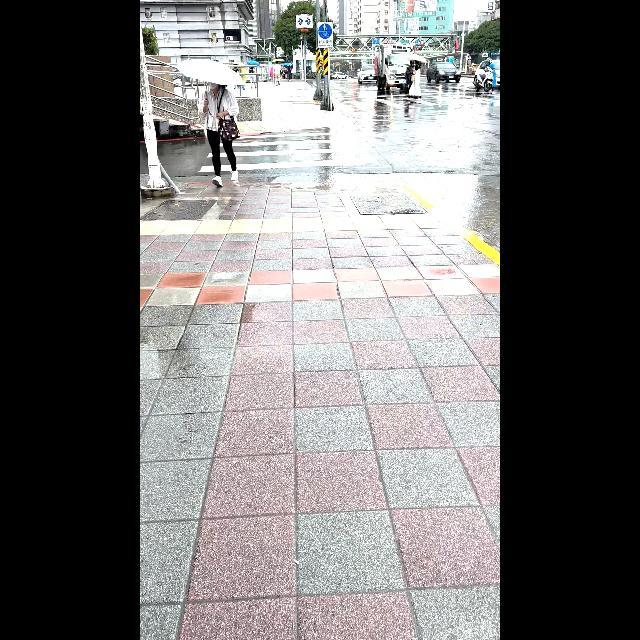sidewalk: (190, 125, 403, 190)
